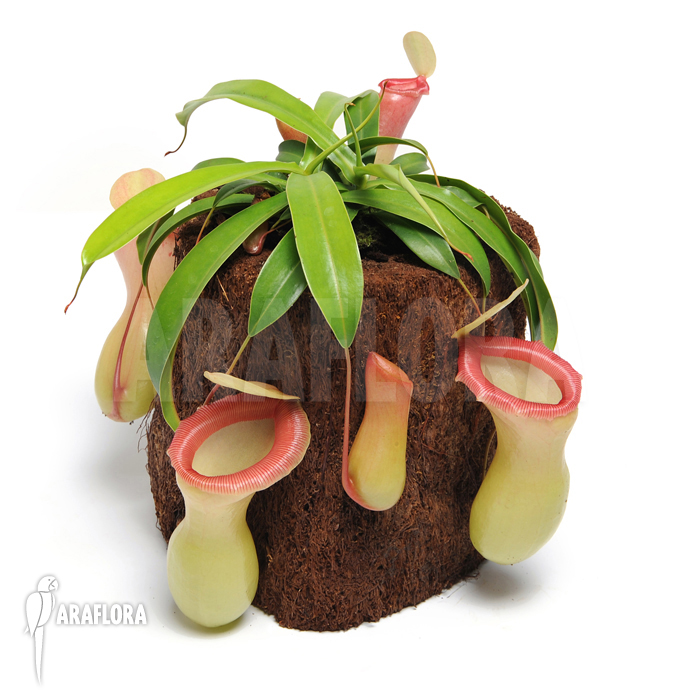ventricosa: (149, 332, 318, 646)
